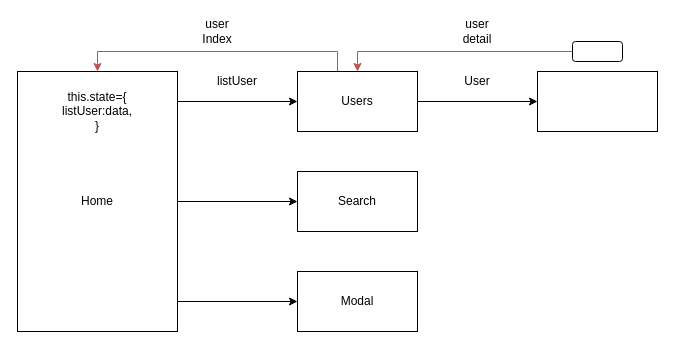
Some shapes in this 675 by 349 pixel diagram are drawn without their labels. The centre of each missing label's shape, as x and y in pixels:
"delete" goes at pixel 597 51.
"UserItem" goes at pixel 597 101.
